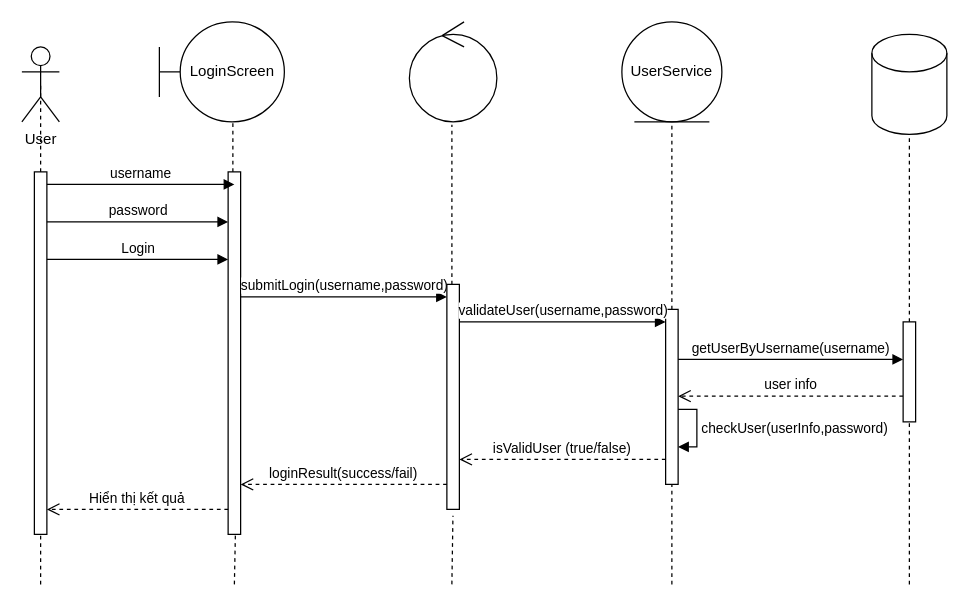
Some shapes in this 969 by 608 pixel diagram are drawn without their labels. The centre of each missing label's shape, as x and y in pixels:
AuthController: (452,71)
Database: (909,83)
